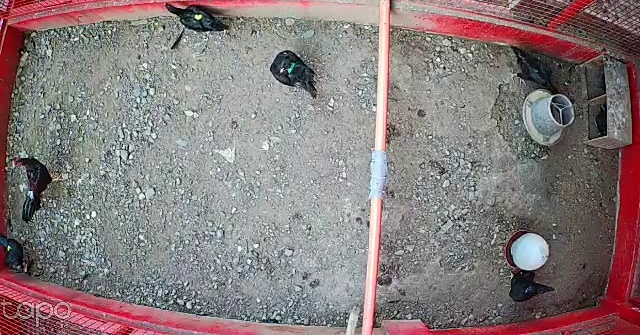Chicken: (505, 43, 560, 97), (268, 47, 323, 100), (163, 1, 233, 39), (499, 263, 558, 304), (0, 233, 34, 274)
Rooster: (12, 149, 68, 225)
Saddle_Color_Yellow: (193, 11, 204, 21)
